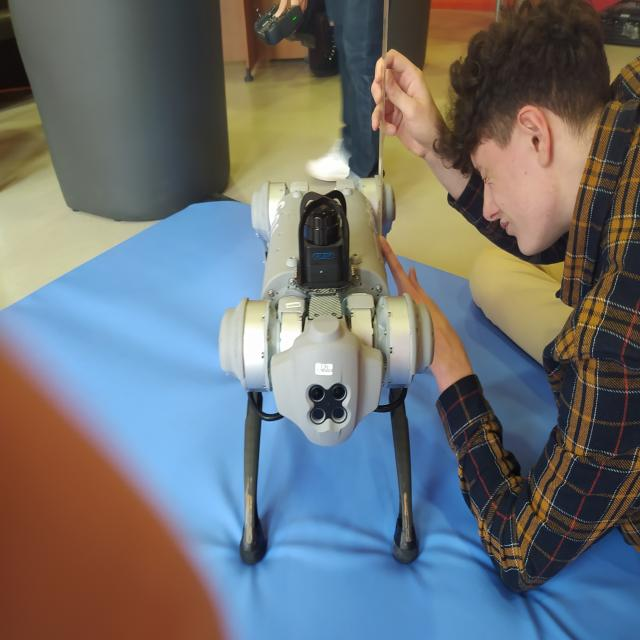unitree-go1-robot: (210, 153, 452, 584)
